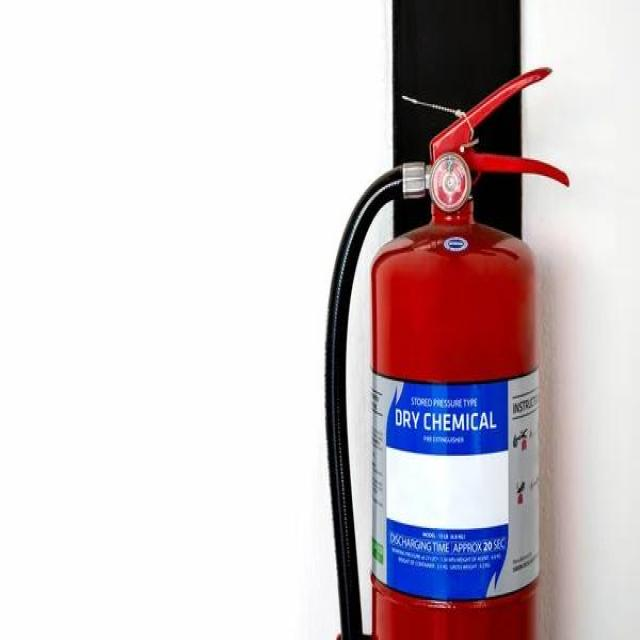fire_extinguisher: (316, 61, 572, 638)
